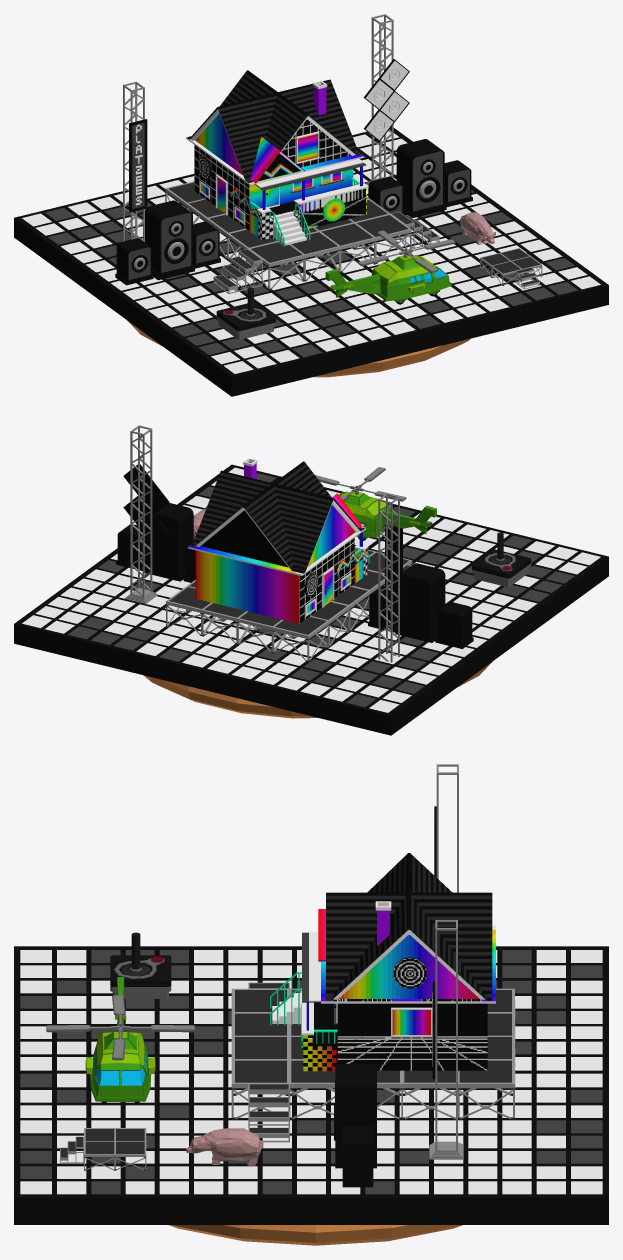
3 views of the same model, one above another, from view 1: azimuth 30°, elevation 25°; view 2: azimuth 150°, elevation 25°; view 3: azimuth 270°, elevation 25° (orthographic). The views are drawn at different scales.
Parts seen in each view (by area): view 1: Cube.008, Cube.1320, VEHICLES_HELICOPTER, OBJRANDOM_JOYSTICK, UNDERGROUND_PIZZA, ANIMAL_HIPOPOTAMO; view 2: Cube.008, Cube.1320, VEHICLES_HELICOPTER, UNDERGROUND_PIZZA, OBJRANDOM_JOYSTICK; view 3: Cube.008, Cube.1320, VEHICLES_HELICOPTER, UNDERGROUND_PIZZA, OBJRANDOM_JOYSTICK, ANIMAL_HIPOPOTAMO.
Part boxes in pixels (x1,y1,x2,y2): Cube.008: (14,14,608,396); Cube.1320: (186,70,368,246); VEHICLES_HELICOPTER: (325,230,455,304); OBJRANDOM_JOYSTICK: (216,287,275,339); UNDERGROUND_PIZZA: (127,320,470,377); ANIMAL_HIPOPOTAMO: (460,212,495,244); Cube.008: (14,425,608,735); Cube.1320: (188,458,369,623); VEHICLES_HELICOPTER: (315,467,436,540); UNDERGROUND_PIZZA: (143,661,492,718); OBJRANDOM_JOYSTICK: (472,532,531,587); Cube.008: (14,764,608,1224); Cube.1320: (270,853,495,1071); VEHICLES_HELICOPTER: (46,977,194,1103); UNDERGROUND_PIZZA: (169,1225,462,1245); OBJRANDOM_JOYSTICK: (110,932,171,998); ANIMAL_HIPOPOTAMO: (186,1128,263,1166).
Size of the model in its own units: 4000 by 2184 by 4000.
43 materials, 3 textured.
